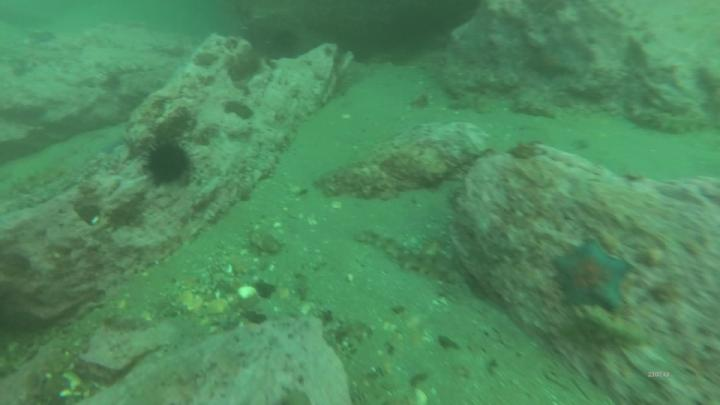echinus: (148, 139, 195, 190)
holothurian: (359, 222, 440, 277), (552, 309, 642, 341), (633, 103, 699, 136)
starfish: (553, 237, 630, 314)
